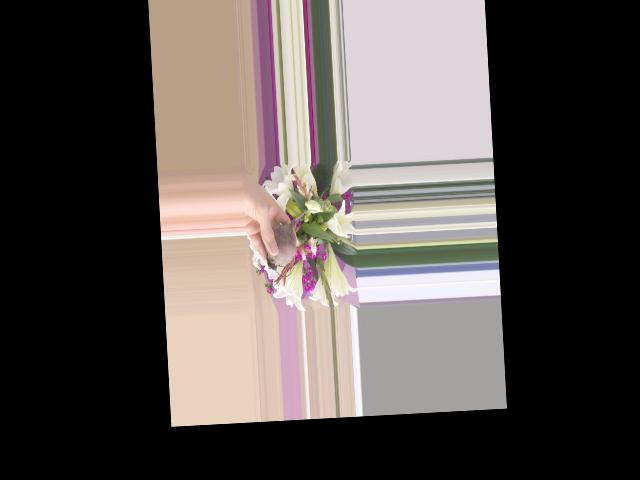beet: (263, 209, 320, 278)
